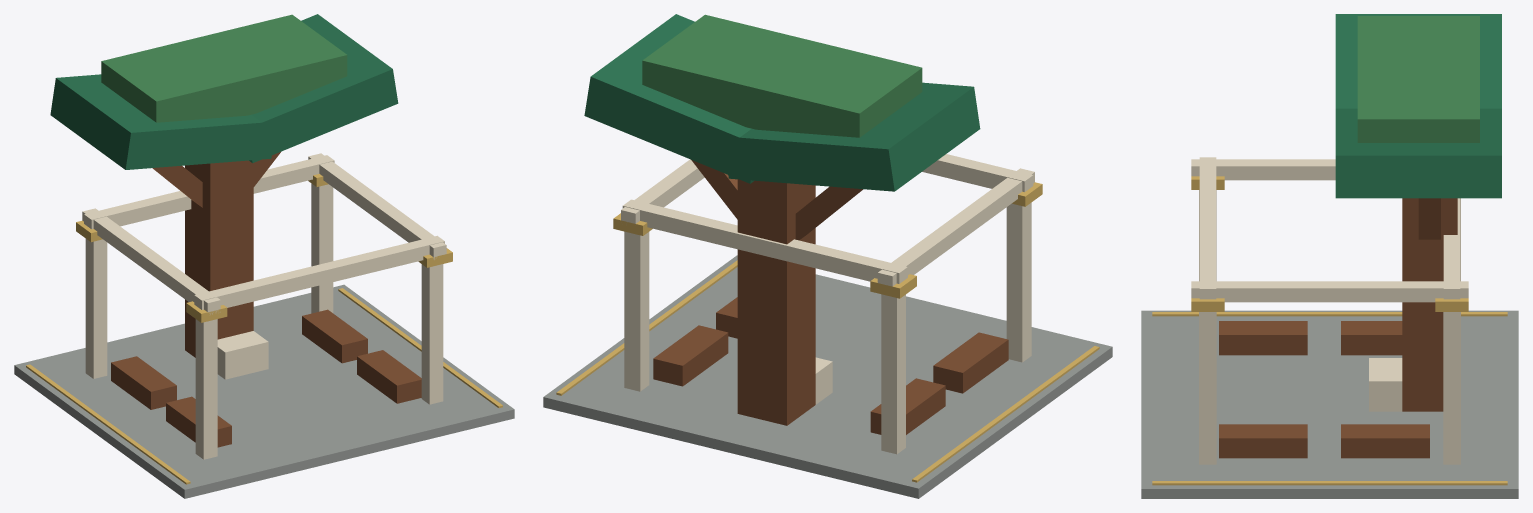
File: sylvaris_council_tree.glb
3 renders of one model, left to right at view 1: azimuth 30°, elevation 25°; view 2: azimuth 150°, elevation 25°; view 3: azimuth 270°, elevation 25°, orthographic. The views are drawn at different scales.
Parts seen in each view (by area): view 1: sylvaris_council_tree; view 2: sylvaris_council_tree; view 3: sylvaris_council_tree.
Part boxes in pixels (<box>): sylvaris_council_tree: <box>14,14,514,498</box>; sylvaris_council_tree: <box>543,14,1112,498</box>; sylvaris_council_tree: <box>1141,14,1518,498</box>.
Bounding box in the file's own units: 38 × 34 × 34.
